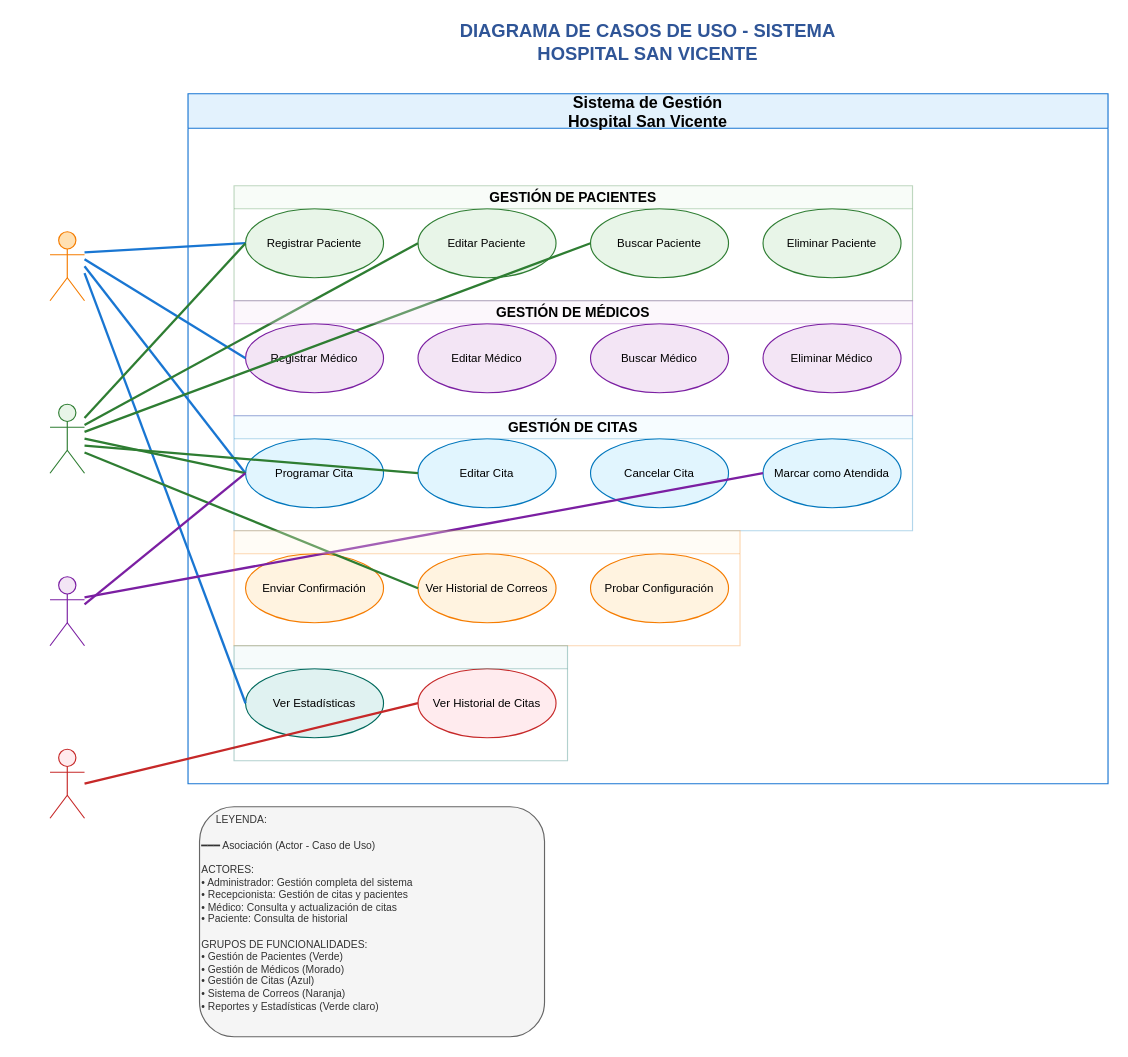
This 1128x1057 diagram has some shape labels left out. Here are the shapes that lost their labels. From the top down, the centre of each, then its label:
At point 67,266: "Administrador del Sistema".
At point 67,438: "Recepcionista".
At point 486,588: "SISTEMA DE CORREOS".
At point 67,611: "Médico".
At point 400,703: "REPORTES Y ESTADÍSTICAS".
At point 67,783: "Paciente".
